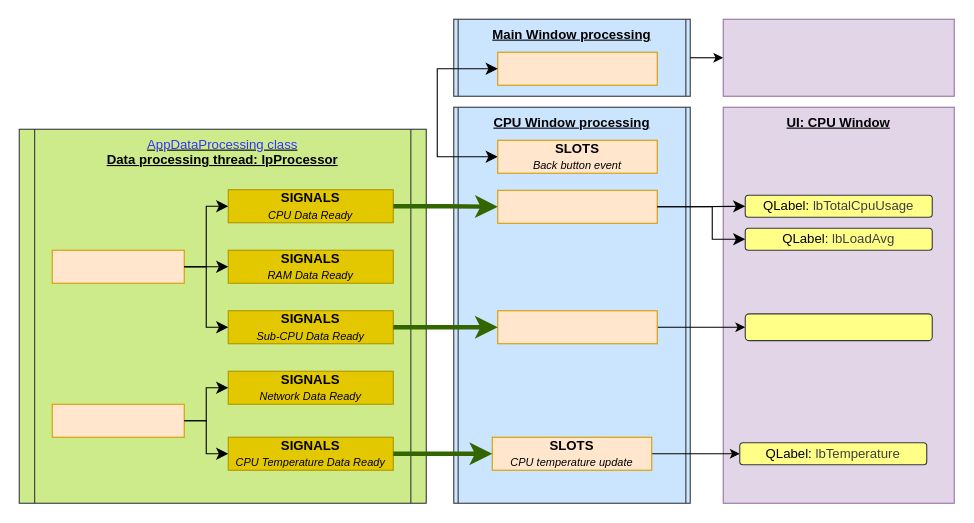
The diagram is 974 pixels wide and 523 high, and some of its shapes have lost their labels. The shapes that lost their labels are listed below. From the top down, each one's centre as x and y in pixels, then its label:
[577,68]: SLOTS CPU Window open
[838,57]: UI: Main Window
[577,206]: SLOTS CPU usage data update
[117,266]: SLOTS Timer Exceed - Fast
[577,327]: SLOTS SubCPU usage data update
[838,327]: QChartView: cCpuChart
[117,420]: SLOTS Timer Exceed - Low
